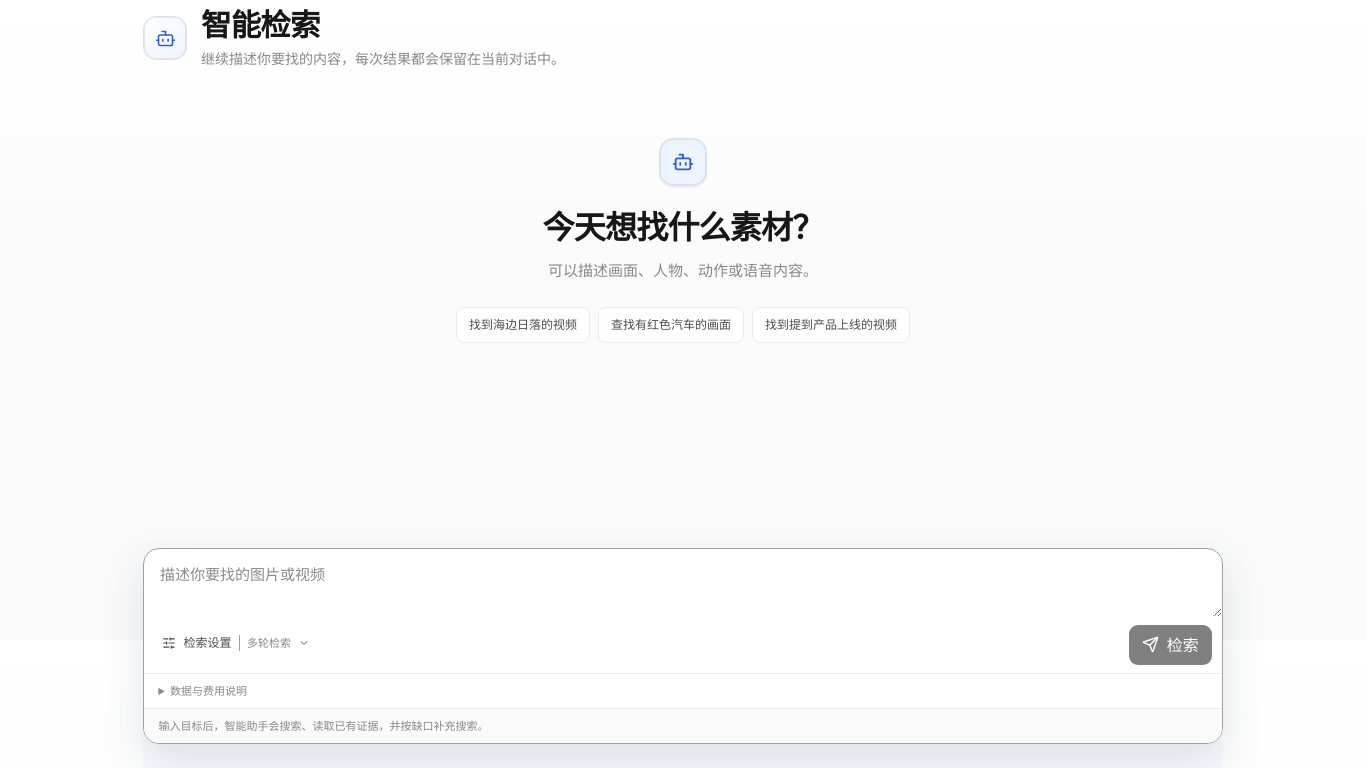
Test: AgentWorkspace › 得到候选后可在底部继续检索，并保留当前页面中的上一轮对话
The image size is (1366, 768).
Type "第一轮：找海边日落" into the text box named "完整用户请求".
click(683, 583); type("第一轮：找海边日落")  # box [144,549,1222,617]
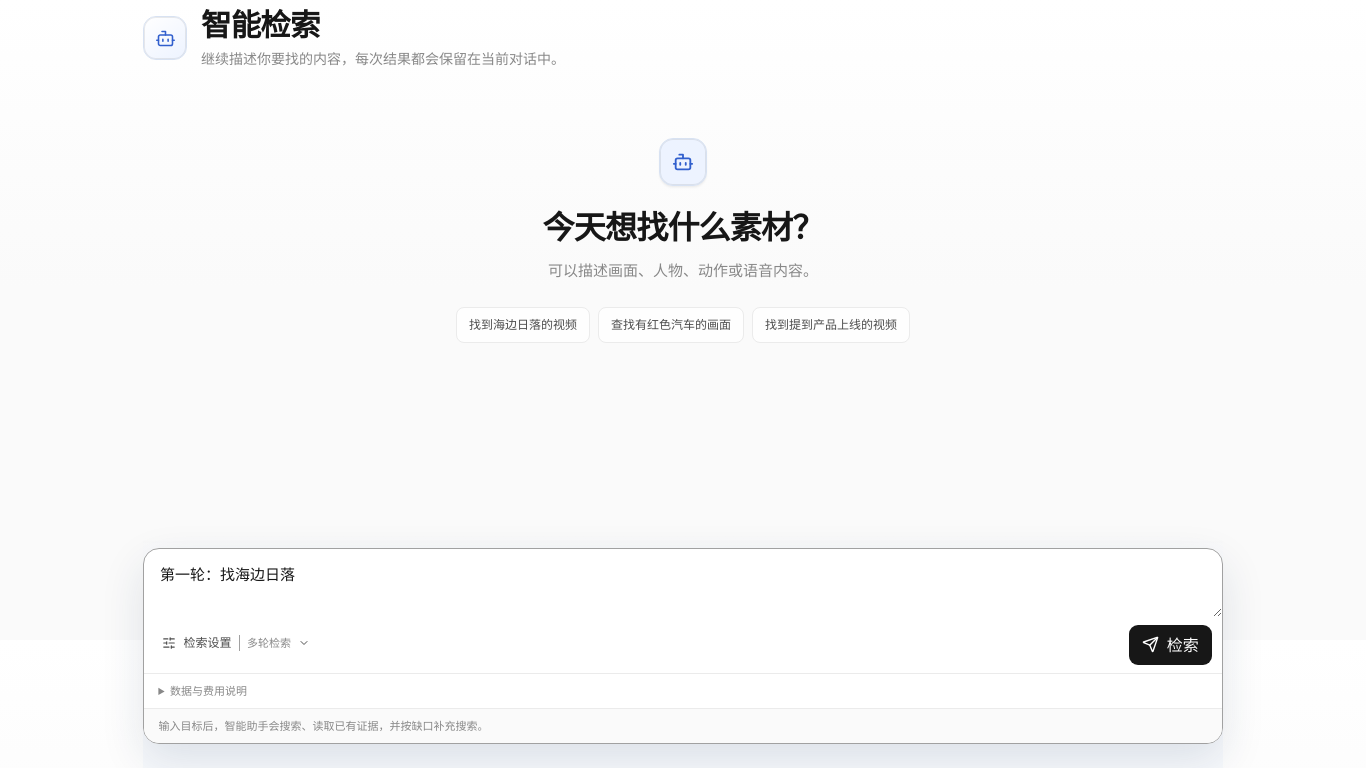
Click the button with aria-label "发送检索请求".
click(1170, 645)  # box [1129,625,1212,665]
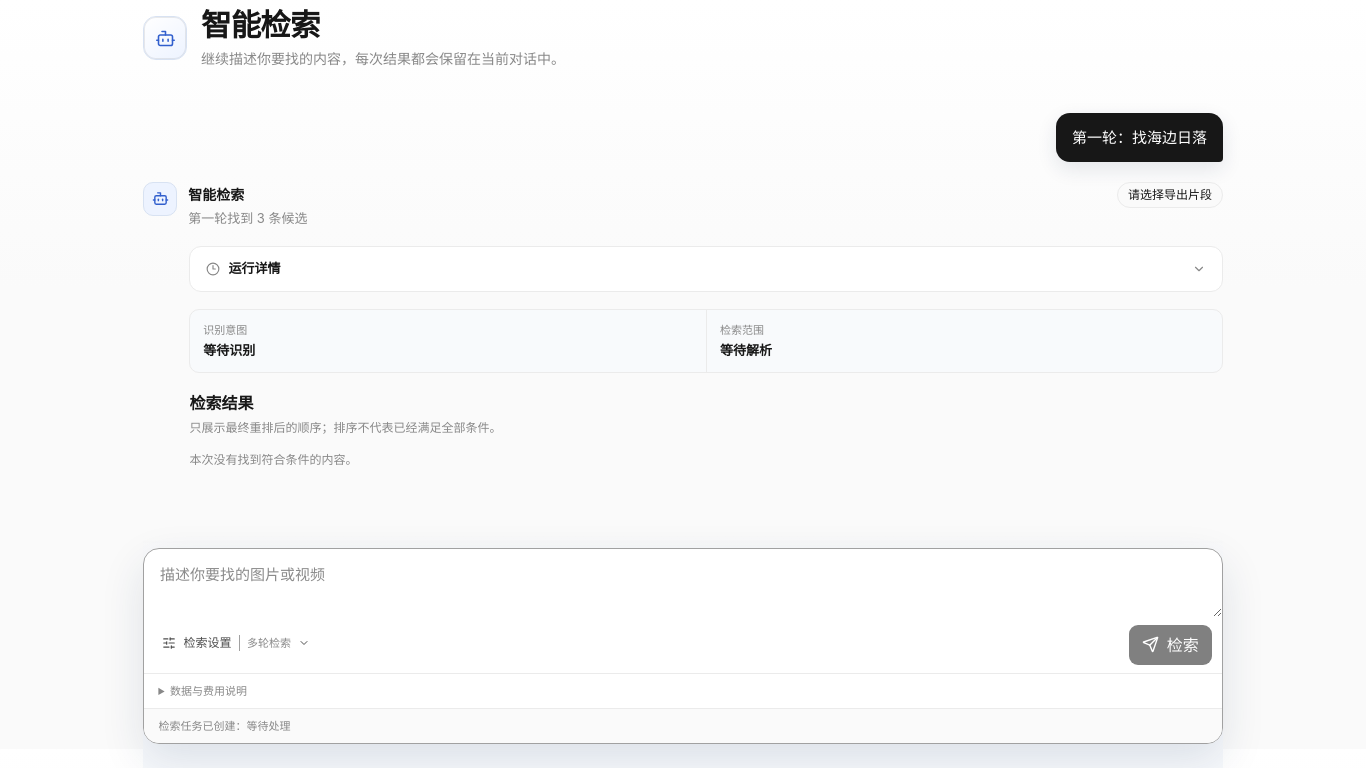
Expected: the text "第一轮找到 3 条候选" is shown, [188,210,308,226]
Expected: the button with aria-label "发送检索请求" is disabled, [1129,625,1212,665]
Type "第二轮：找红色汽车" into the text box named "完整用户请求".
click(683, 583); type("第二轮：找红色汽车")  # box [144,549,1222,617]
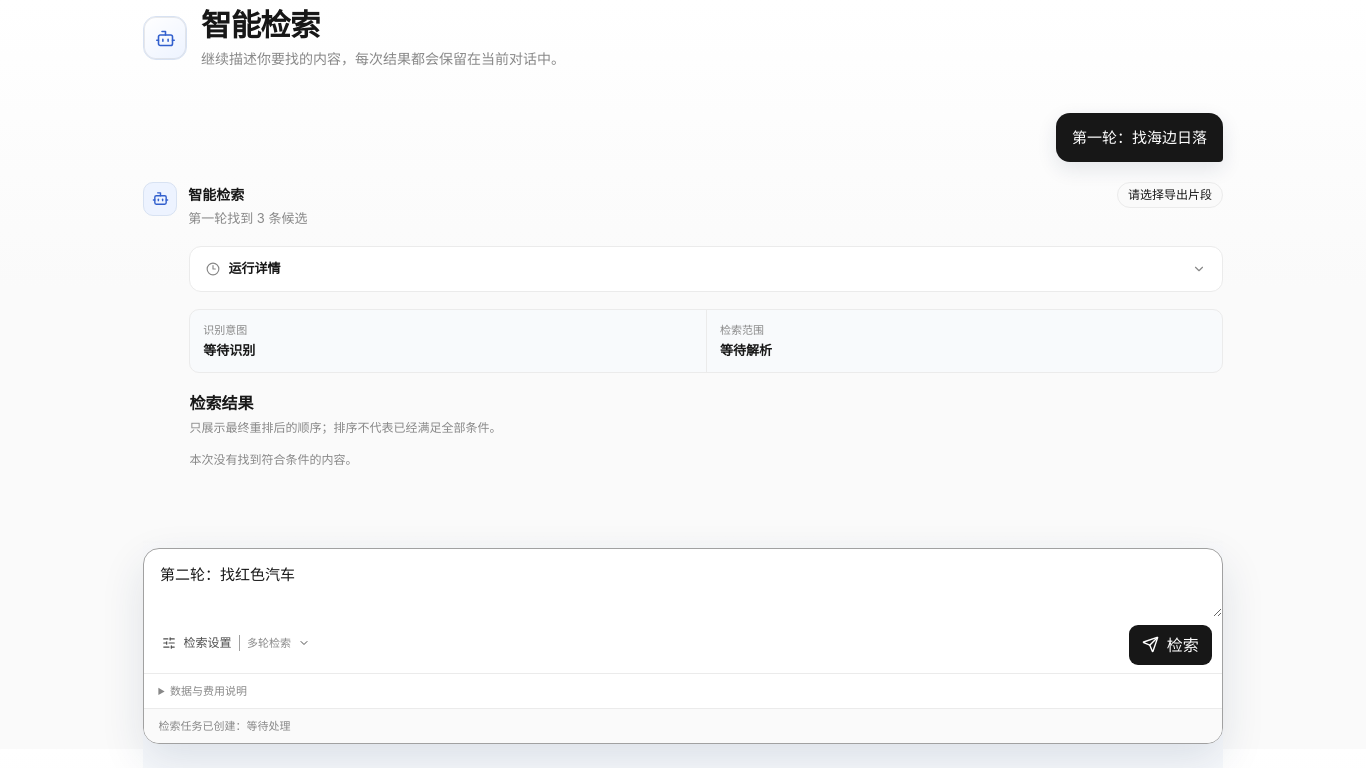
Expected: the button with aria-label "发送检索请求" is enabled
Click the button with aria-label "发送检索请求".
click(1170, 645)  # box [1129,625,1212,665]
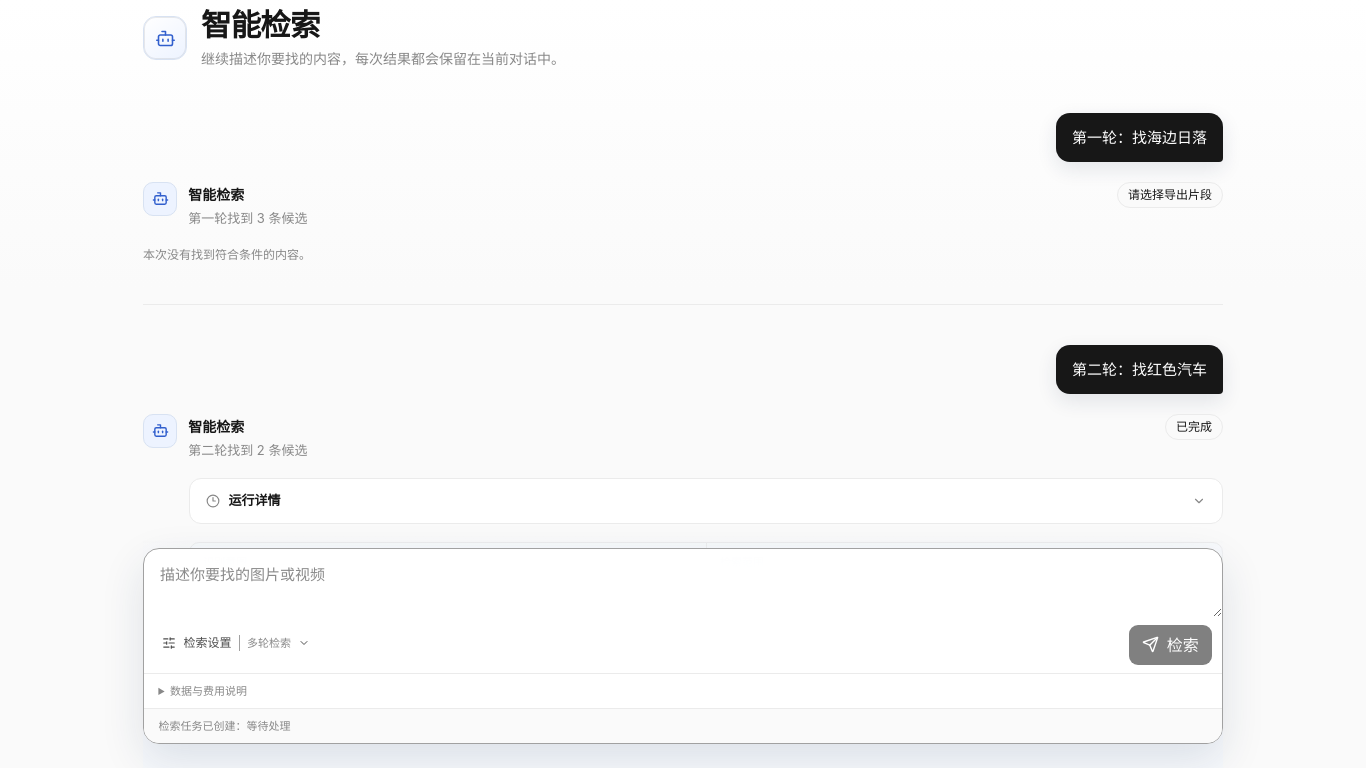
Expected: the text "第一轮找到 3 条候选" is shown, [188,210,308,226]
Expected: the text "第二轮找到 2 条候选" is shown, [188,442,308,458]
